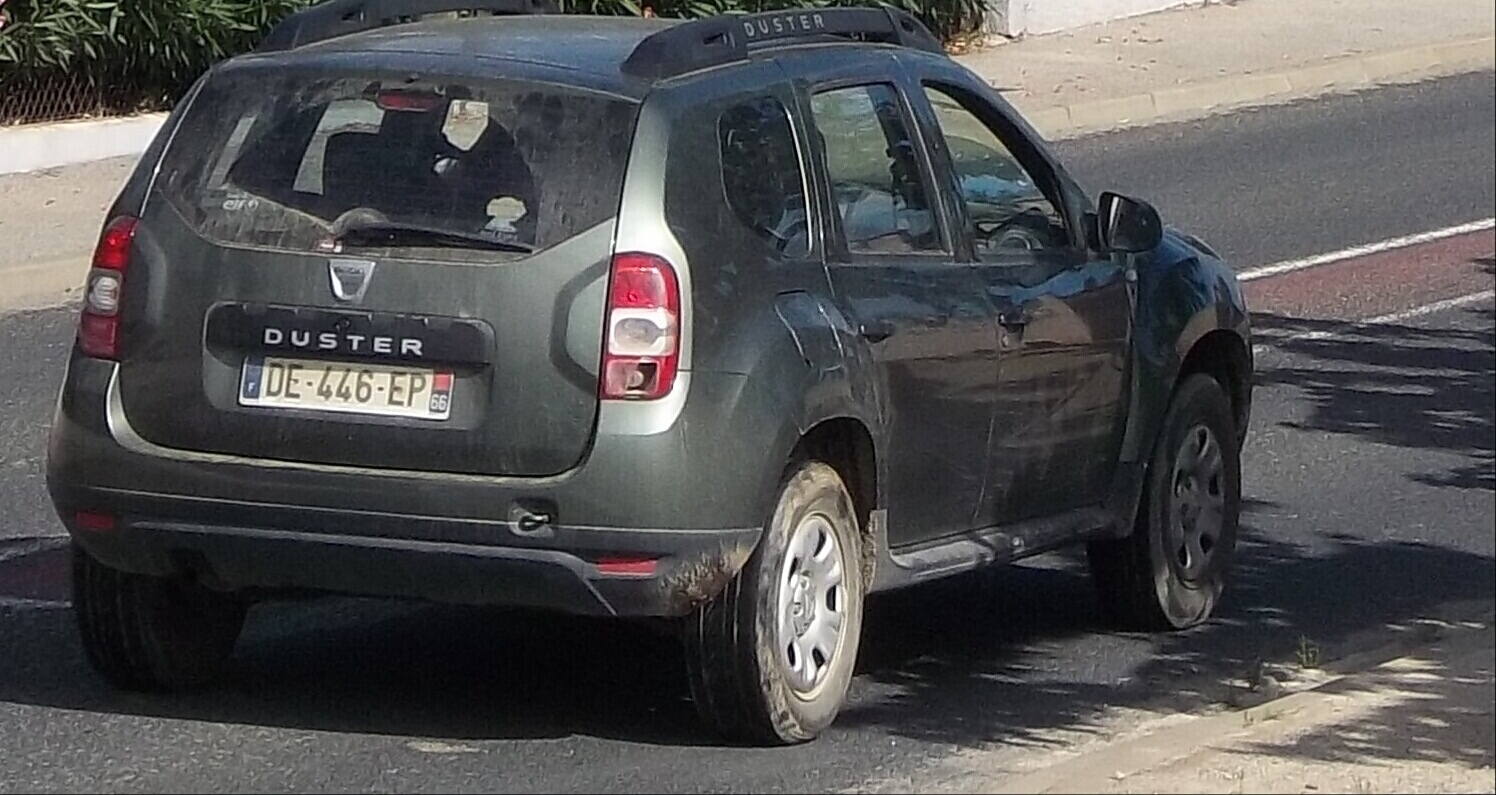licence plate: (234, 349, 455, 423)
